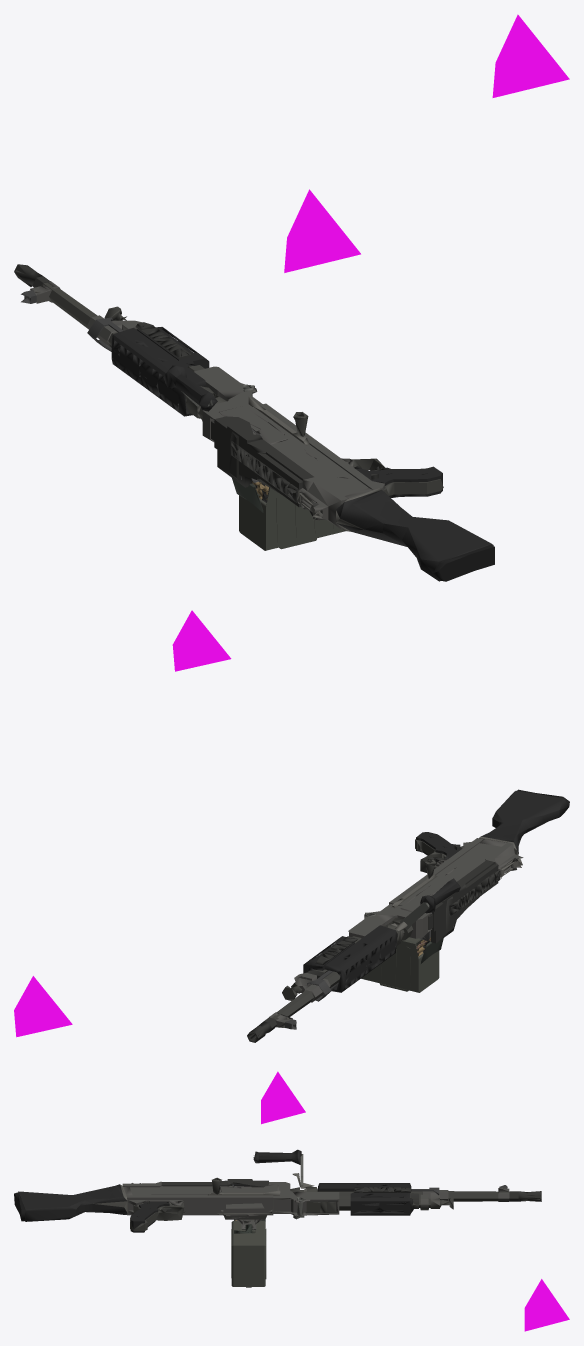
File: prop_mg.glb
3 renders of one model, top to bottom at view 1: azimuth 30°, elevation 25°; view 2: azimuth 150°, elevation 25°; view 3: azimuth 270°, elevation 25°, orthographic. The views are drawn at different scales.
Parts seen in each view (by area): view 1: Body_4, Body_1, Body_5, Body_12, _Front, _Top, Body_8, Body_13, Body_7; view 2: Body_4, Body_1, Body_5, Body_12, _Top, _Front, Body_8, Body_7; view 3: Body_1, Body_4, Body_8, Body_12, Body_5, _Front, _Top, Body_7.
Boxes of the visible parts, x1,y1,x2,y2 form: Body_4: (111, 327, 493, 581); Body_1: (30, 281, 384, 529); Body_5: (14, 264, 426, 518); Body_12: (239, 483, 345, 550); _Front: (284, 189, 360, 272); _Top: (492, 14, 569, 97); Body_8: (43, 282, 443, 495); Body_13: (421, 545, 494, 581); Body_7: (35, 290, 381, 531); Body_4: (303, 790, 568, 992); Body_1: (269, 838, 523, 1027); Body_5: (247, 836, 517, 1042); Body_12: (361, 937, 439, 992); _Top: (172, 610, 231, 671); _Front: (14, 976, 72, 1037); Body_8: (272, 839, 463, 1018); Body_7: (287, 836, 522, 1019); Body_1: (122, 1181, 509, 1229); Body_4: (18, 1149, 413, 1232); Body_8: (130, 1177, 509, 1230); Body_12: (231, 1220, 266, 1287); Body_5: (137, 1179, 541, 1216); _Front: (524, 1279, 569, 1331); _Top: (261, 1071, 305, 1124); Body_7: (93, 1173, 503, 1214).
Bounding box in the file's own units: 1.45 × 1.68 × 2.95.
Materials: 14 (13 with a texture image).
